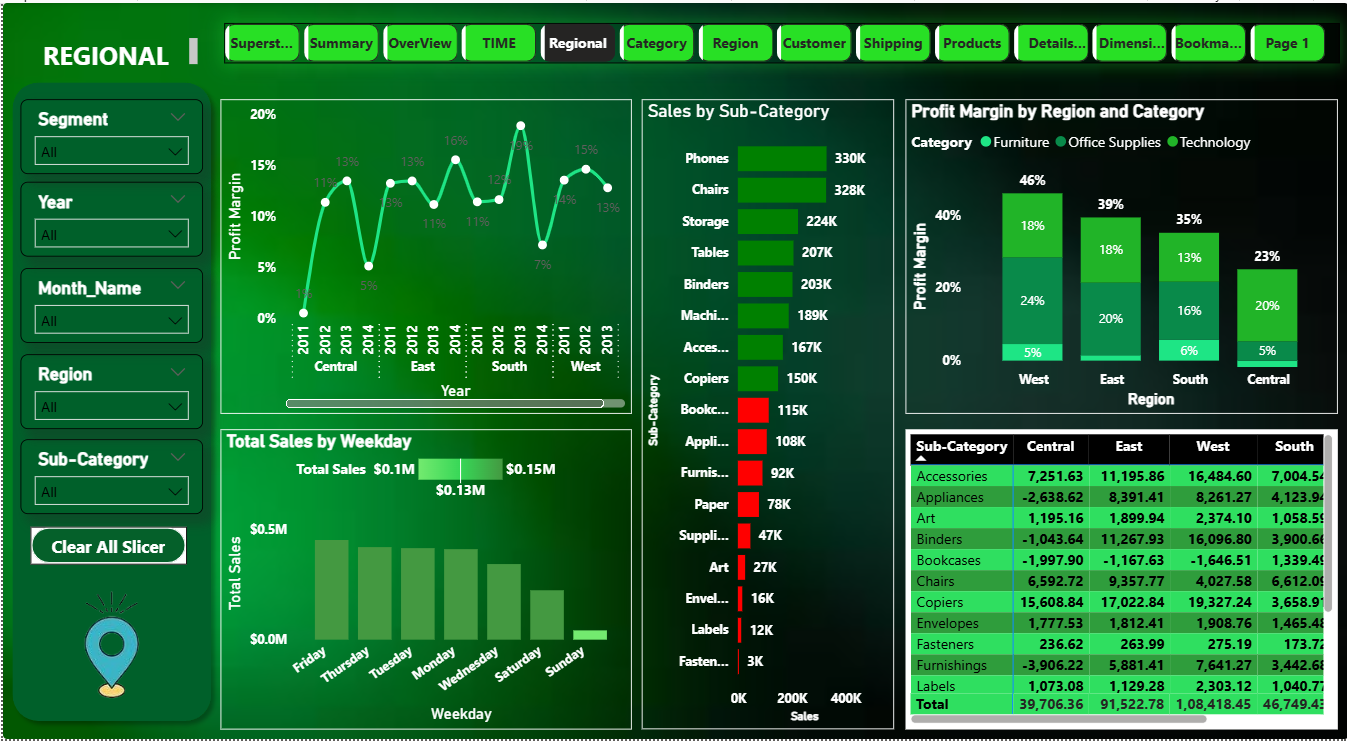

The page's visual inventory and layout, read from the dashboard file:
{"tool":"powerbi","page":{"name":"Regional","canvas":[1280,700],"ordinal":4},"visuals":[{"type":"image","box":[0,0,1280.4,700.2],"z":0},{"type":"shape","box":[0,66.6,206.9,625.3],"z":1000},{"type":"textbox","box":[26.2,83.2,108.2,44],"z":2000},{"type":"textbox","box":[13.1,28.5,177.1,38],"z":3000},{"type":"slicer","fields":{"Values":["Superstore.Segment"]},"box":[16.6,91.5,173.6,71.3],"z":4000},{"type":"slicer","fields":{"Values":["date_table.Month_Name"]},"box":[16.6,252,173.6,71.3],"z":5000},{"type":"slicer","fields":{"Values":["date_table.Year"]},"box":[16.6,170,173.6,71.3],"z":6000},{"type":"slicer","fields":{"Values":["Superstore.Sub-Category"]},"box":[16.6,414.9,173.6,71.3],"z":7000},{"type":"shape","box":[26.2,498.1,148.6,35.7],"z":8000},{"type":"columnChart","fields":{"Category":["date_table.Weekday"],"Y":["All measures.Total Sales"]},"box":[206.9,405.4,391.1,285.3],"z":9000},{"type":"lineChart","fields":{"Category":["Superstore.Region","date_table.Year"],"Y":["All measures.Profit Margin"]},"box":[206.9,91.5,391.1,299.6],"z":10000},{"type":"clusteredBarChart","fields":{"Category":["Superstore.Sub-Category"],"Y":["Sum(Superstore.Sales)"]},"box":[607.5,91.5,240.2,599.2],"z":11000},{"type":"columnChart","title":"Profit Margin by Region and Category","fields":{"Category":["Superstore.Region"],"Series":["Superstore.Category"],"Y":["All measures.Profit Margin"]},"box":[858.4,91.5,411.3,299.6],"z":12000},{"type":"pivotTable","fields":{"Rows":["Superstore.Sub-Category"],"Values":["All measures.Central","All measures.East","All measures.West","All measures.South","All measures.Totol Profit"]},"box":[858.4,405.4,411.3,285.3],"z":13000},{"type":"slicer","fields":{"Values":["Superstore.Region"]},"box":[16.6,334.1,173.6,71.3],"z":14000},{"type":"image","box":[16.6,548.1,173.6,126],"z":15000},{"type":"pageNavigator","box":[210.4,19,1060.5,38],"z":16000}]}

Visuals, with their boxes in screenshot pixels (x1, y1, x2, y2), scaled from the page's 1280x700 canvas onto the 1347x747 screenshot:
image: region(0, 0, 1346, 746)
shape: region(0, 71, 218, 738)
textbox: region(28, 89, 141, 136)
textbox: region(14, 30, 200, 71)
slicer - Superstore.Segment: region(17, 98, 200, 174)
slicer - date_table.Month_Name: region(17, 269, 200, 345)
slicer - date_table.Year: region(17, 181, 200, 258)
slicer - Superstore.Sub-Category: region(17, 443, 200, 519)
shape: region(28, 532, 184, 570)
columnChart - date_table.Weekday x All measures.Total Sales: region(218, 433, 629, 737)
lineChart - Superstore.Region x date_table.Year: region(218, 98, 629, 417)
clusteredBarChart - Superstore.Sub-Category x Sum(Superstore.Sales): region(639, 98, 892, 737)
"Profit Margin by Region and Category" columnChart: region(903, 98, 1336, 417)
pivotTable - Superstore.Sub-Category x All measures.Central: region(903, 433, 1336, 737)
slicer - Superstore.Region: region(17, 357, 200, 433)
image: region(17, 585, 200, 719)
pageNavigator: region(221, 20, 1337, 61)
